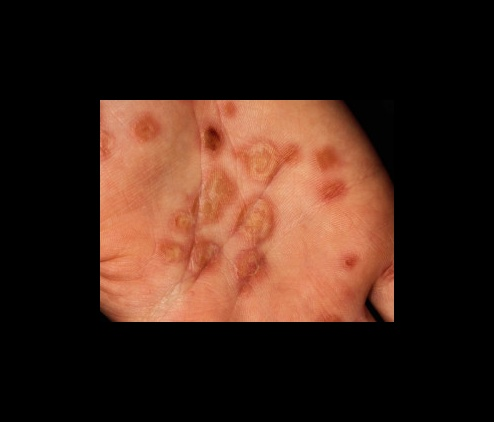SJS-TEN: (95, 95, 384, 321)
